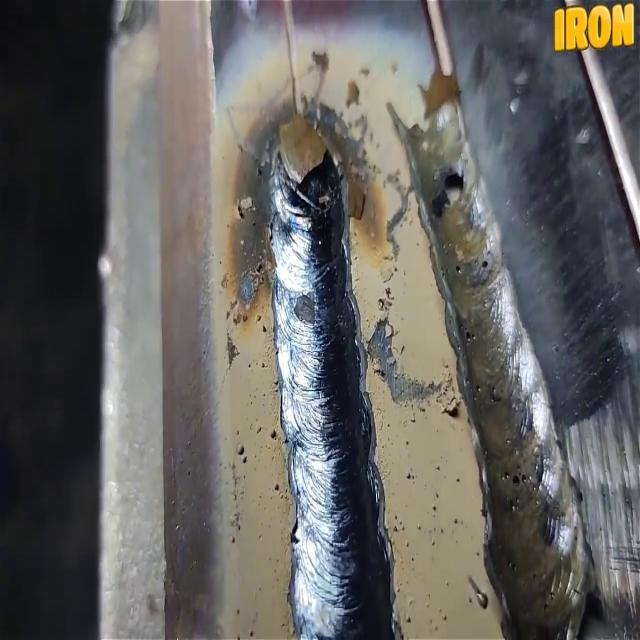Bad Welding: (388, 73, 591, 638), (270, 113, 399, 638)
